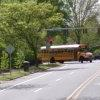Bus: (40, 39, 88, 64)
